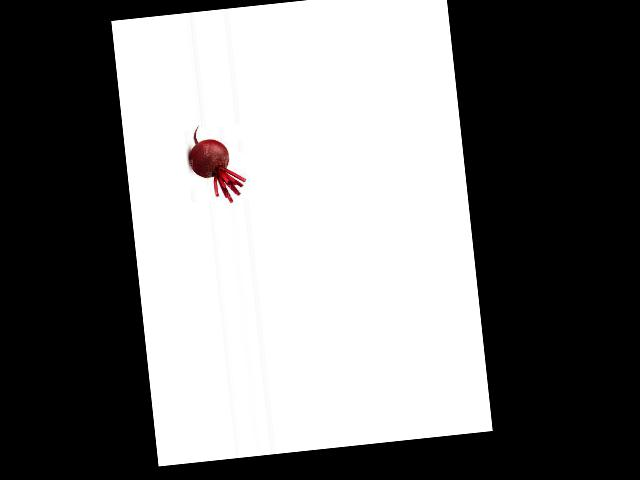beet: (186, 122, 247, 207)
